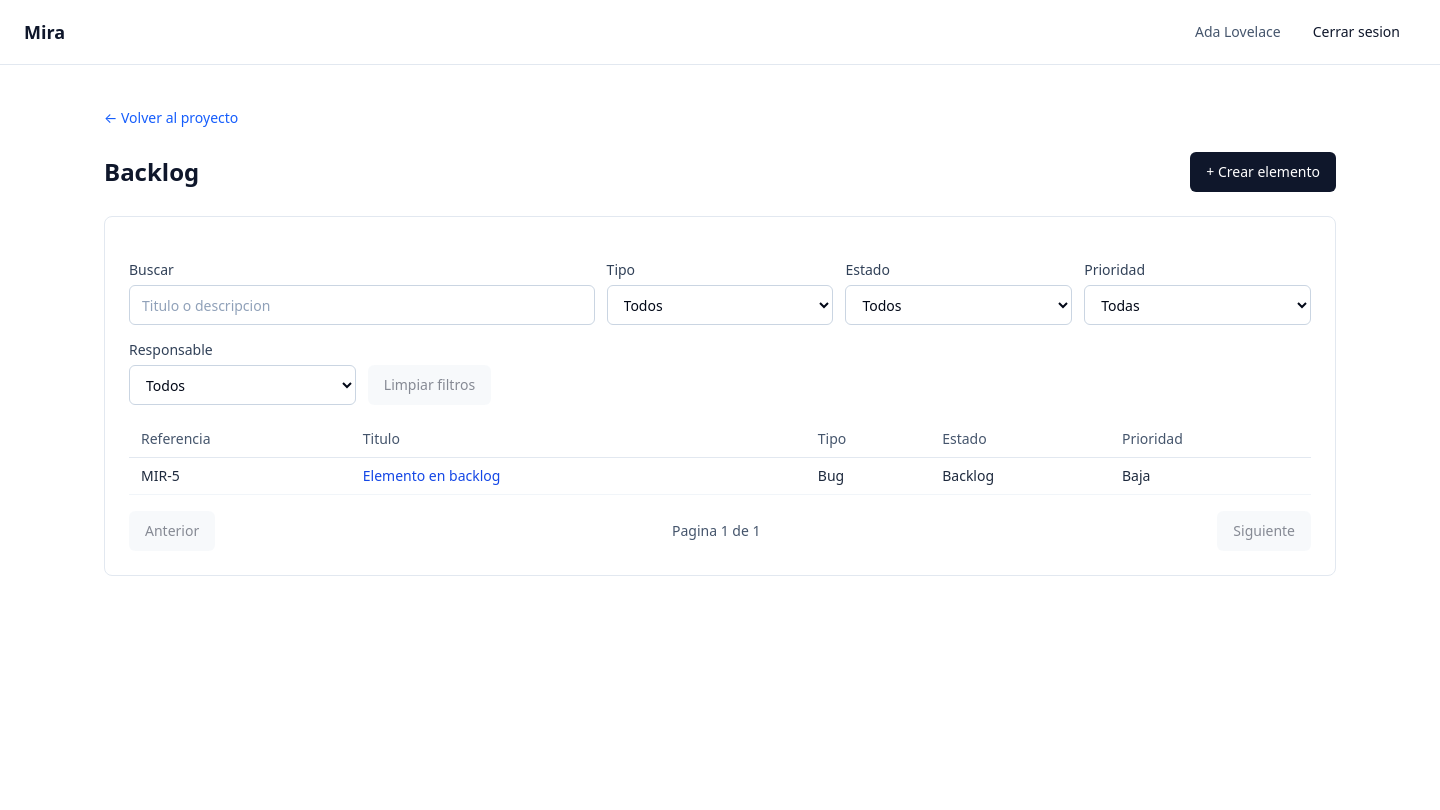
it: App › MIR-30: desde el backlog, el titulo abre el detalle y "Volver" regresa al backlog
Click the link "Elemento en backlog" at (432,476), box [363, 466, 500, 485]
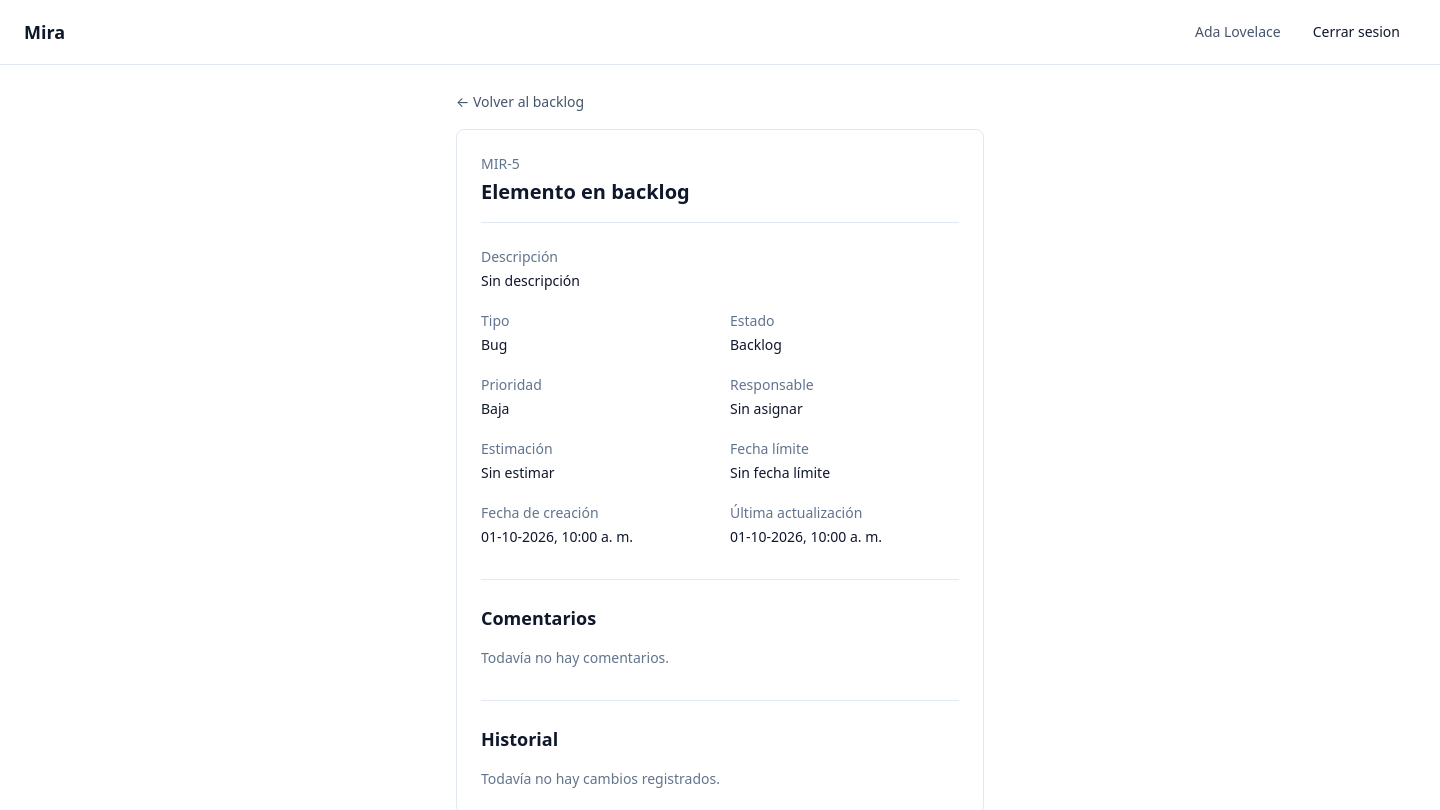
Expected: the element "Historial" is shown, [481, 700, 959, 789]
